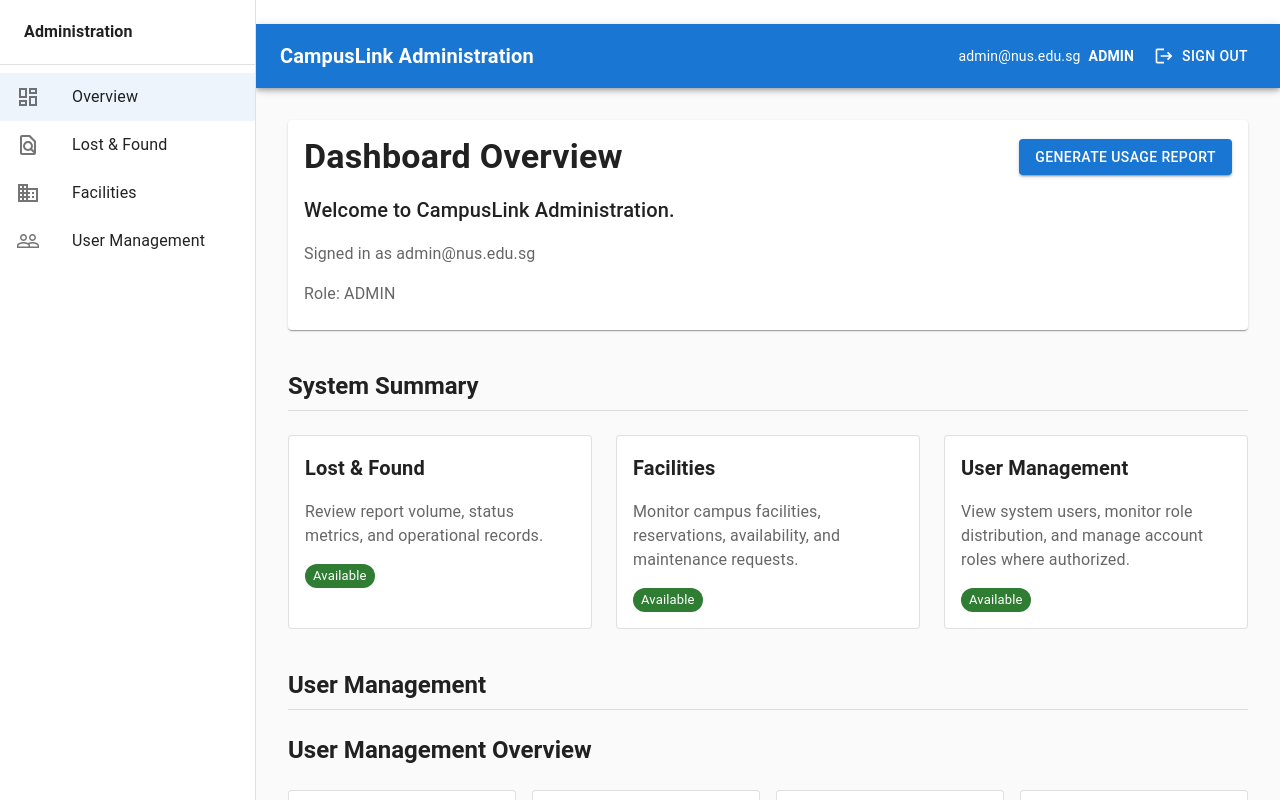
Test: admin application routes › navigates from the Administration sidebar to the Facilities page
Expected: the heading "Dashboard Overview" is shown, [304,136,623,178]
Click the link "Facilities". click: (76, 193)
box: [16,181,137,205]
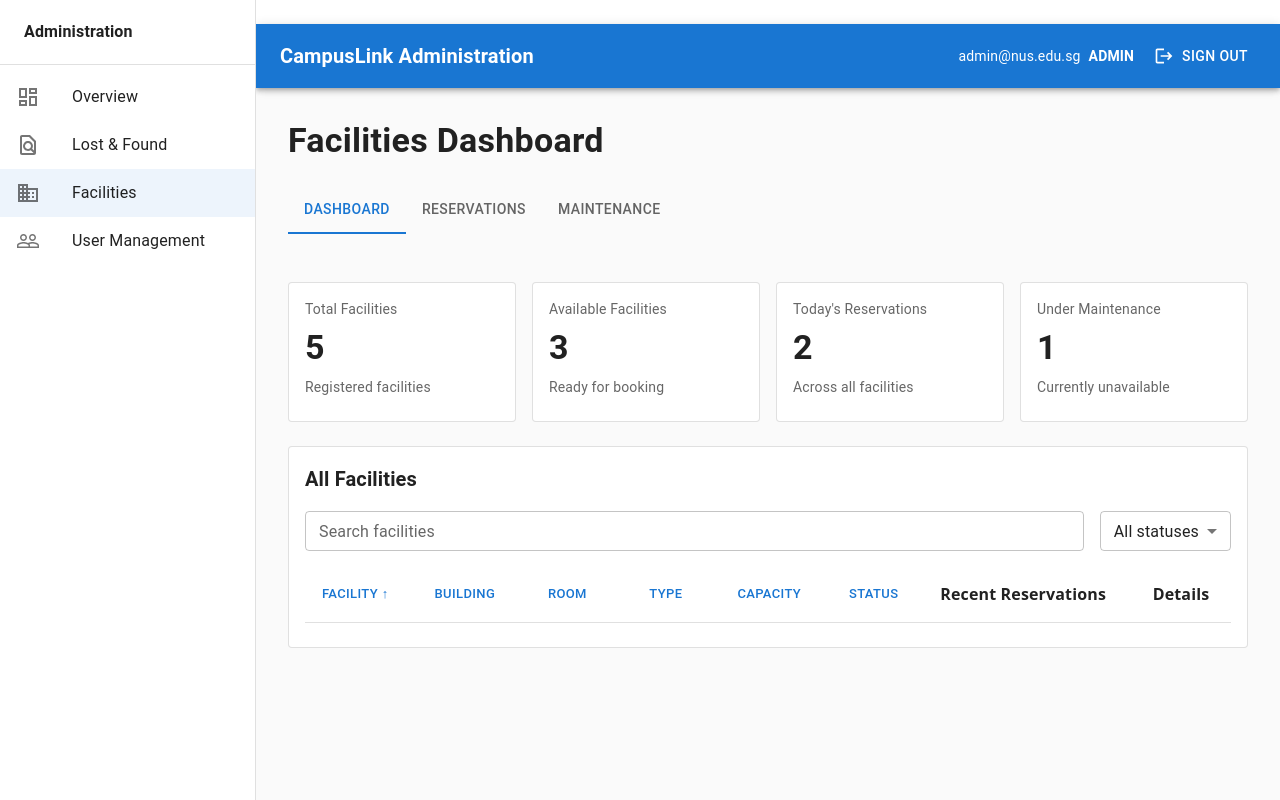
Expected: the text named "Current path" reads "/admin/facilities", [0,1,123,23]
Result: the heading "Facilities Dashboard" is shown at [288,120,604,160]
